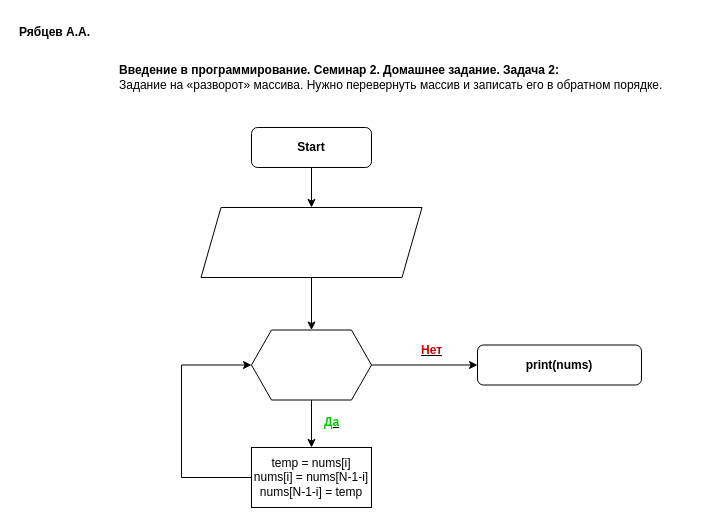
Some shapes in this 704 by 525 pixel diagram are drawn without their labels. Here are the shapes that lost their labels. From the top down, the centre of each, then its label:
At (x=311, y=242): "nums = [1, 8, 3, 8, 2, 6, 8, 8] N = nums.length = 8 i = 0".
At (x=311, y=364): "i; i < N/2; 1".
